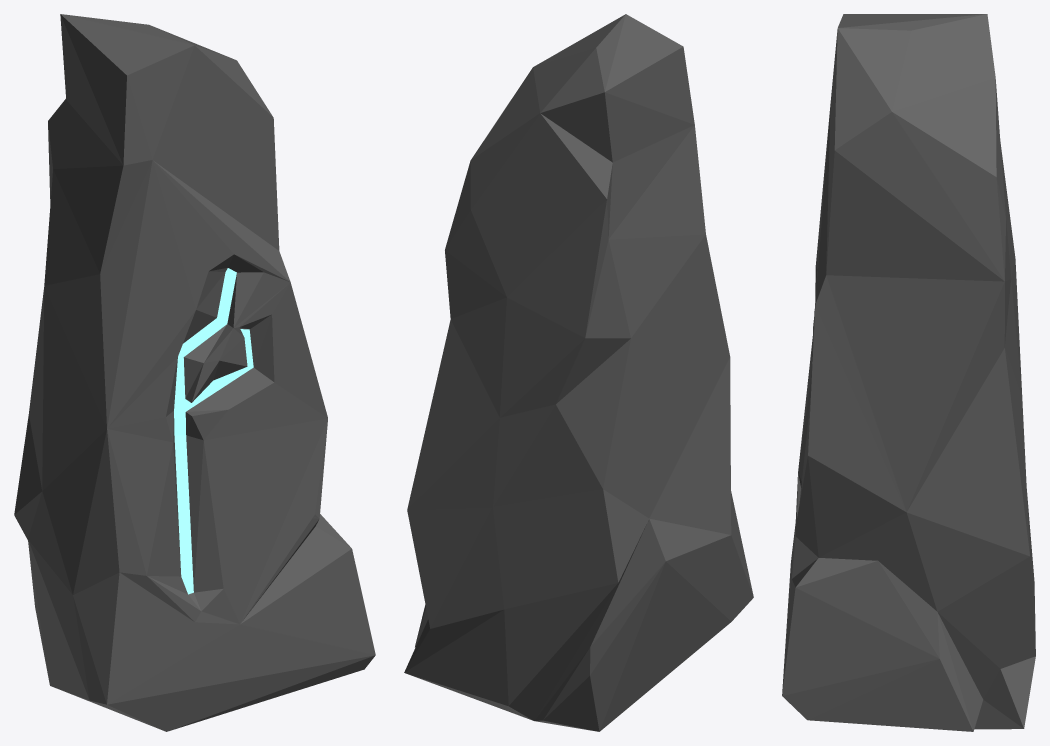
File: SFNP_Runestone_001.fbx
3 renders of one model, left to right at view 1: azimuth 30°, elevation 25°; view 2: azimuth 150°, elevation 25°; view 3: azimuth 270°, elevation 25°, orthographic. The views are drawn at different scales.
Parts seen in each view (by area): view 1: SFNP_Runestone_001; view 2: SFNP_Runestone_001; view 3: SFNP_Runestone_001.
Boxes of the visible parts, left/top/right/bottom form: SFNP_Runestone_001: left=14, top=14, right=375, bottom=731; SFNP_Runestone_001: left=404, top=14, right=753, bottom=731; SFNP_Runestone_001: left=782, top=14, right=1035, bottom=731.
Bounding box in the file's own units: 55.29 × 136 × 46.92.
